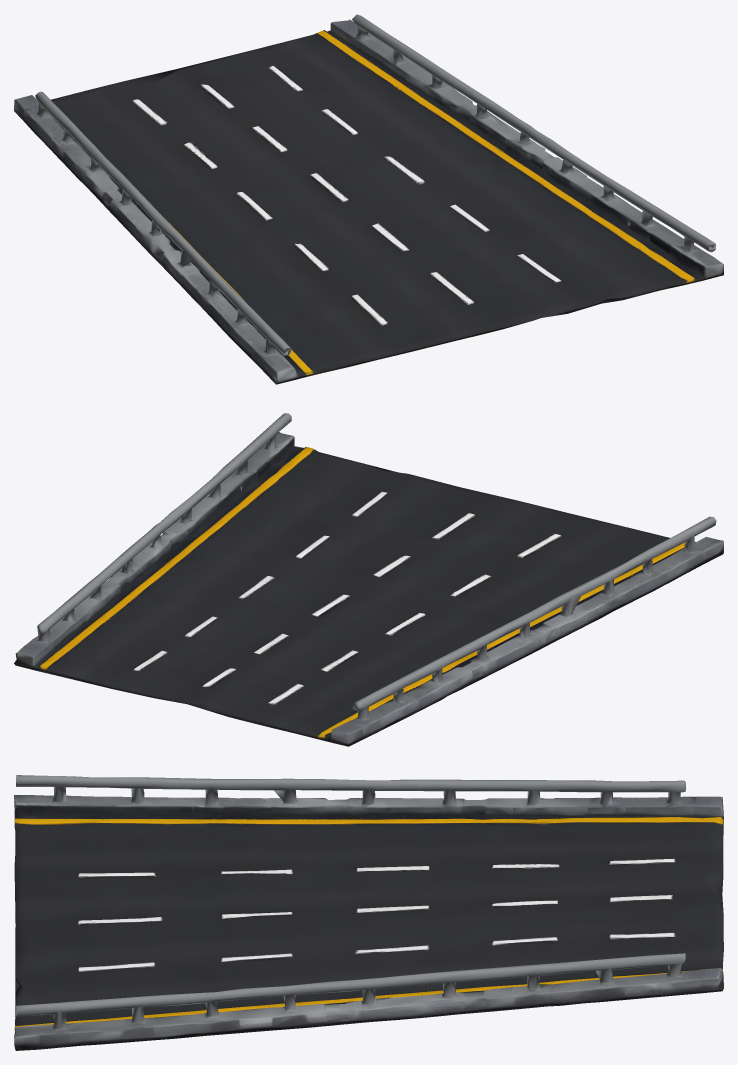
The model's file is 4laneroad.glb.
3 views of the same model, one above another, from view 1: azimuth 30°, elevation 25°; view 2: azimuth 150°, elevation 25°; view 3: azimuth 270°, elevation 25° (orthographic). The views are drawn at different scales.
Visible parts, largest first — view 1: tripo_node_33420223-fa30-4404-bf41-96f4e03baca7; view 2: tripo_node_33420223-fa30-4404-bf41-96f4e03baca7; view 3: tripo_node_33420223-fa30-4404-bf41-96f4e03baca7.
Part boxes in pixels (x1,y1,x2,y2): tripo_node_33420223-fa30-4404-bf41-96f4e03baca7: (14,14,723,384); tripo_node_33420223-fa30-4404-bf41-96f4e03baca7: (14,413,723,746); tripo_node_33420223-fa30-4404-bf41-96f4e03baca7: (14,775,723,1050).
Size of the model in its own units: 0.8088 by 0.0981 by 1.
1 material, 1 textured.
